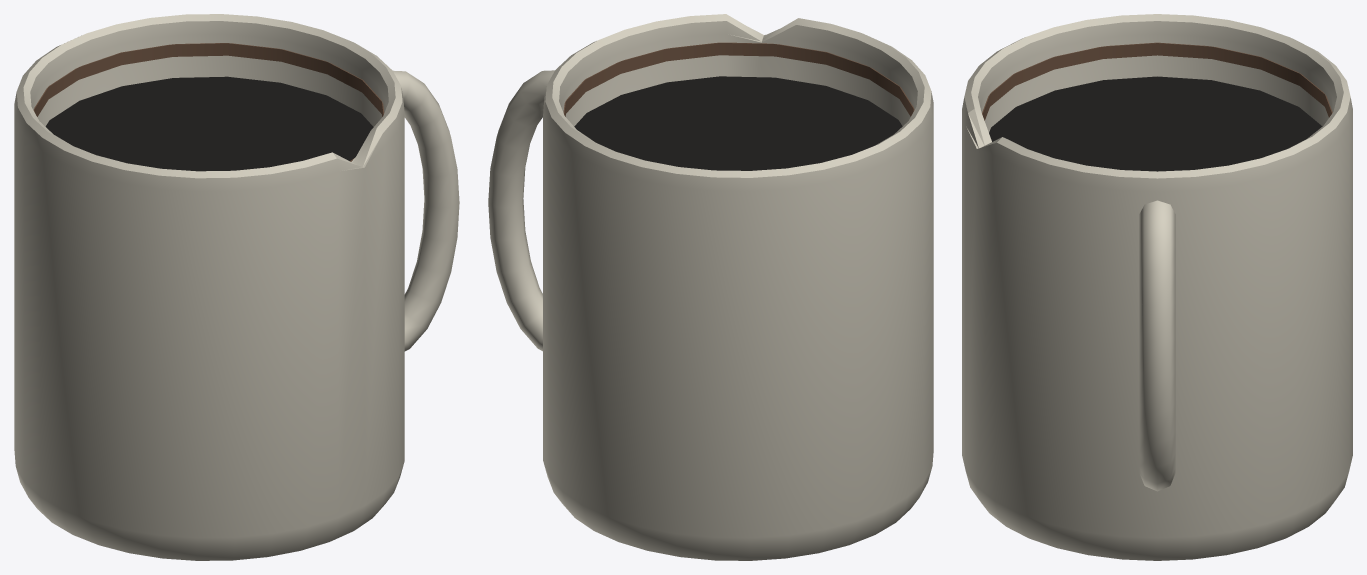
File: coffee-mug-f4075a46c394.glb
The picture shows the model from 3 angles, left to right: view 1: azimuth 30°, elevation 25°; view 2: azimuth 150°, elevation 25°; view 3: azimuth 270°, elevation 25°; orthographic projection.
Visible parts, largest first — view 1: enamel, enamel-black, wood; view 2: enamel, enamel-black, wood; view 3: enamel, enamel-black, wood.
Boxes of the visible parts, x1,y1,x2,y2 form: enamel: [14, 14, 459, 560]; enamel-black: [45, 76, 373, 171]; wood: [33, 43, 384, 161]; enamel: [488, 14, 933, 560]; enamel-black: [574, 76, 902, 170]; wood: [563, 42, 914, 116]; enamel: [962, 14, 1352, 560]; enamel-black: [989, 76, 1322, 171]; wood: [982, 42, 1332, 120].
Size of the model in its own units: 0.106 by 0.096 by 0.086.
